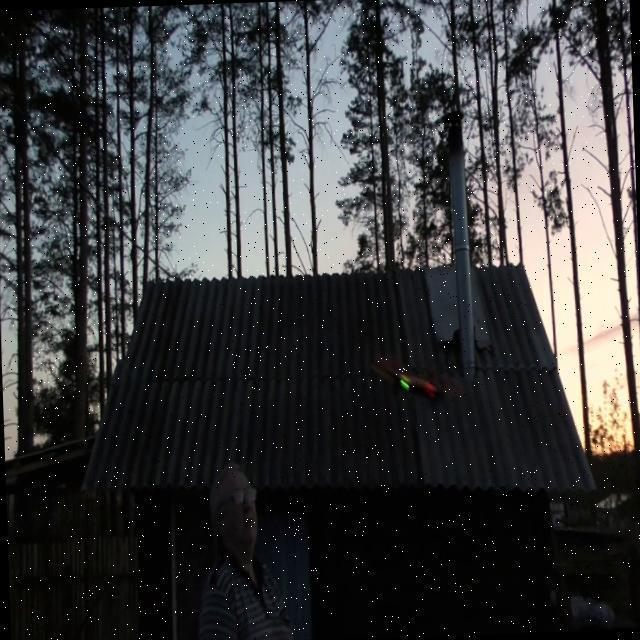Drons: (372, 360, 450, 412)
